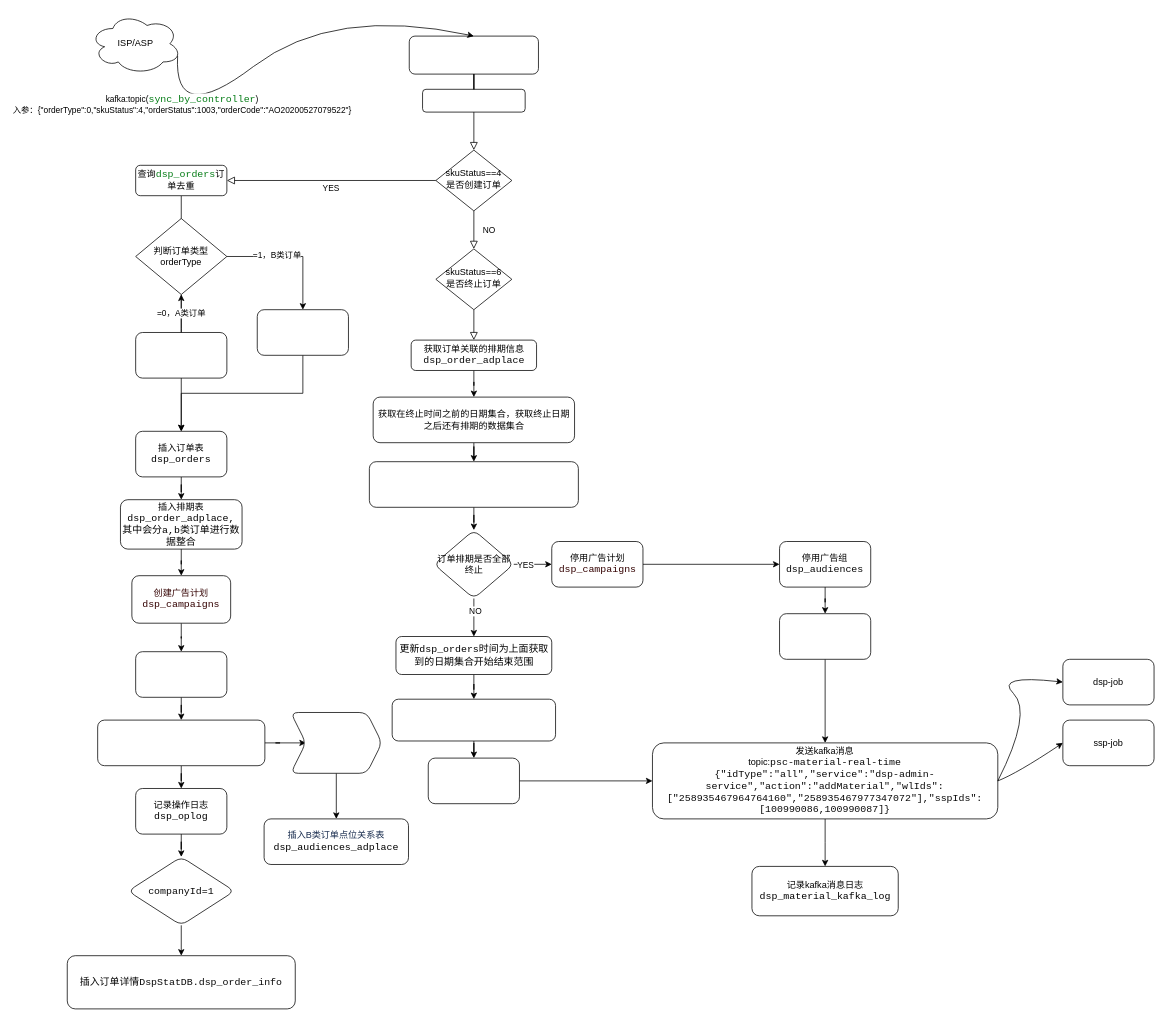
Image size: 1168x1022. Some labels were removed from this diagram. Each missing label, with the box of its shape:
B类订单: (290, 712, 382, 773)
OrderKafkaConsumer: (408, 35, 538, 74)
停用物料 dsp_materials: (779, 613, 871, 659)
创建广告组dsp_audiences表: (97, 719, 265, 766)
处理是否是isp来源订单，还是asp来源订单: (422, 89, 525, 112)
更新dsp_orders表 have_campaign=1: (135, 651, 227, 697)
更新广告组 dsp_audiences ：direct_place_ids字段: (391, 698, 556, 741)
更新排期数据 dsp_order_adplace，排期字段 PlacePeriod，为终止时间之前的排期: (369, 461, 578, 507)
更新物料排期: (428, 757, 519, 804)
根据上面得到的标识，调用isp/asp A类接口，获取订单信息，及其sku信息: (135, 332, 227, 378)
根据上面得到的标识，调用isp/asp B类接口，获取订单信息，及其sku信息: (256, 309, 348, 355)
